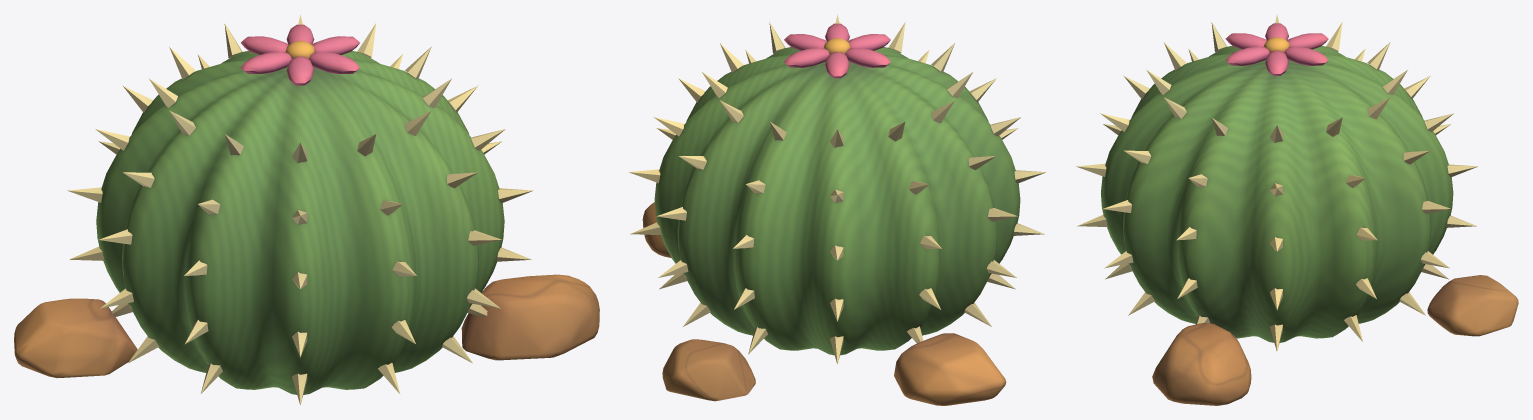
Rendered from SD_P02_Cactus_Round.fbx.
The picture shows the model from 3 angles, left to right: view 1: azimuth 30°, elevation 25°; view 2: azimuth 150°, elevation 25°; view 3: azimuth 270°, elevation 25°; orthographic projection. The views are drawn at different scales.
Parts seen in each view (by area): view 1: Cactus_Round; view 2: Cactus_Round; view 3: Cactus_Round.
Part boxes in pixels (x1,y1,x2,y2): Cactus_Round: (14, 14, 599, 405); Cactus_Round: (629, 14, 1045, 405); Cactus_Round: (1076, 14, 1518, 405).
Size of the model in its own units: 0.7966 by 0.4774 by 0.7228.
